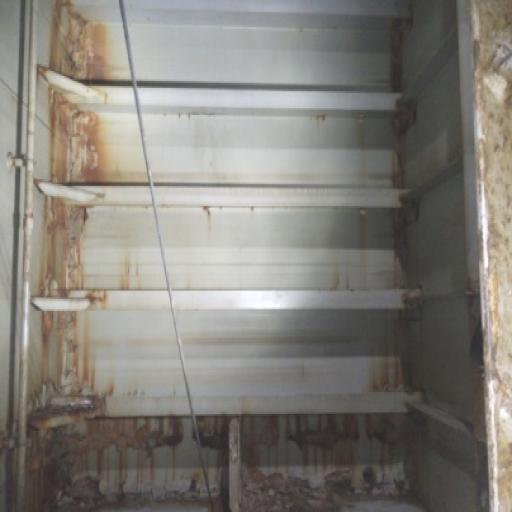Detect-rust-on-metal-surfaces: (2, 3, 435, 510)
